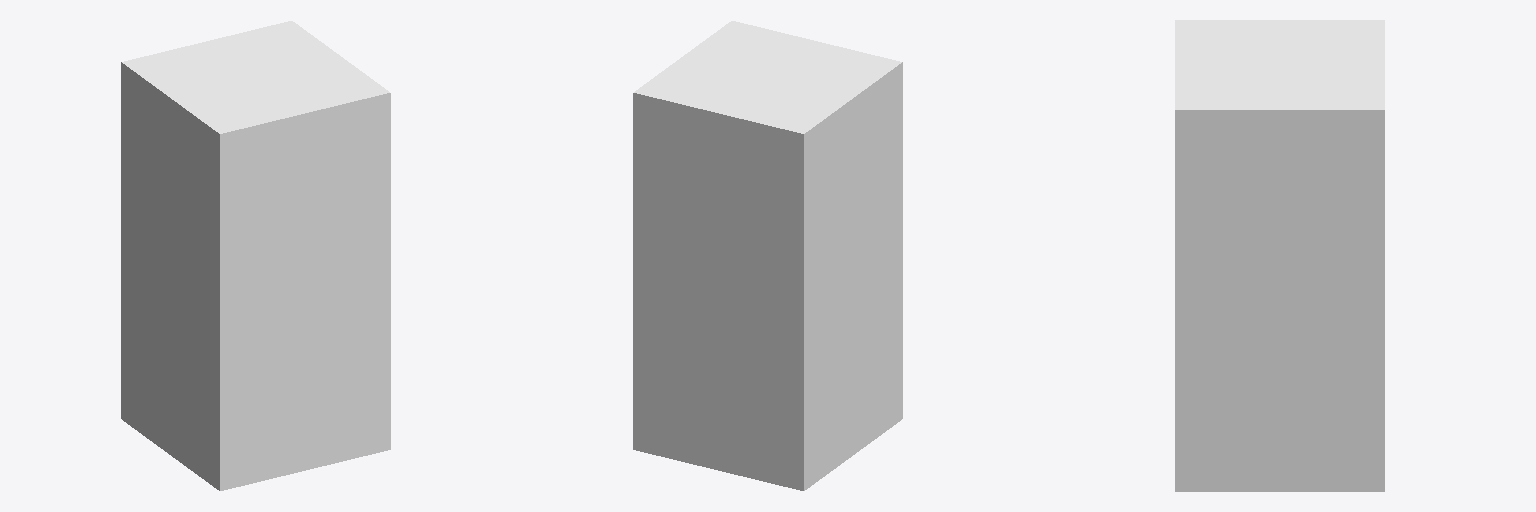
URDF robot description (box):
<robot name="box">
  <link name="base_link">
    <inertial>
      <origin xyz="0.0 0.0 0.0" rpy="0 0 0" />
      <mass value="0.6"/>
      <inertia ixx="0.001" ixy="0.0" ixz="0.0"
	       iyy="0.001" iyz="0.0"
	       izz="0.001" />
    </inertial>
    <visual>
      <origin xyz="0 0 0" rpy="0 0 0" />
      <geometry>
        <box size="0.055 0.055 0.11"/>
      </geometry>
      <material name="white">
        <color rgba="1 1 1 1"/>
      </material>
    </visual>
    <collision>
      <origin xyz="0 0 0" rpy="0 0 0" />
      <geometry>
        <box size="0.055 0.055 0.11"/>
      </geometry>
    </collision>
  </link>
</robot>

--- Facts derived from the render (not from the file) ---
Views: 3 orthographic renders of the robot side by side, from view 1: azimuth 30°, elevation 25°; view 2: azimuth 150°, elevation 25°; view 3: azimuth 270°, elevation 25°.
Robot: box — 1 links, 0 joints (none); root link base_link; default pose: every joint at zero.
Links seen in each view (by area): view 1: base_link; view 2: base_link; view 3: base_link.
Boxes of the visible links, bbox=[...] form: base_link: bbox=[121, 21, 390, 490]; base_link: bbox=[633, 21, 902, 490]; base_link: bbox=[1175, 20, 1384, 491].
Bounding box of the posed robot: 0.055 × 0.055 × 0.11 m (x, y, z).
Geometry: primitives only (box / cylinder / sphere), no mesh files.